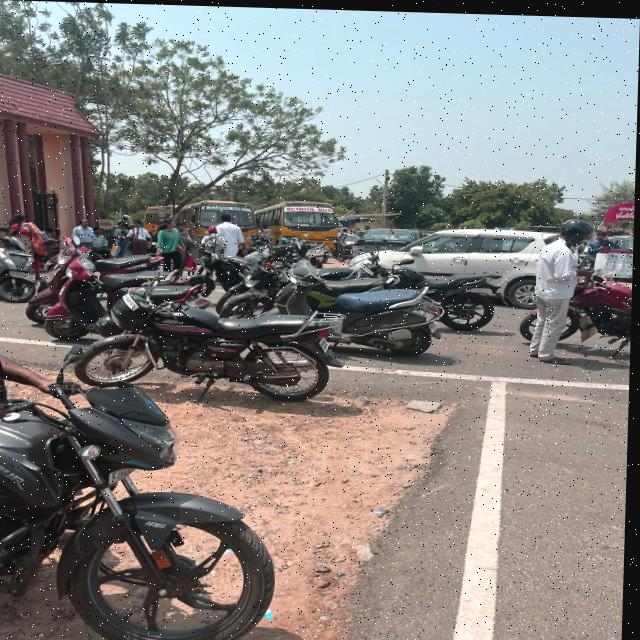bike: (0, 332, 286, 640), (91, 286, 336, 421), (273, 261, 463, 365), (46, 252, 224, 363), (52, 240, 159, 313), (246, 259, 398, 305), (569, 264, 634, 356), (0, 226, 44, 313), (194, 250, 249, 298), (301, 236, 333, 263)
bus: (252, 194, 345, 248), (180, 198, 264, 253), (143, 201, 177, 235)
car: (349, 220, 563, 311), (351, 225, 426, 257)
